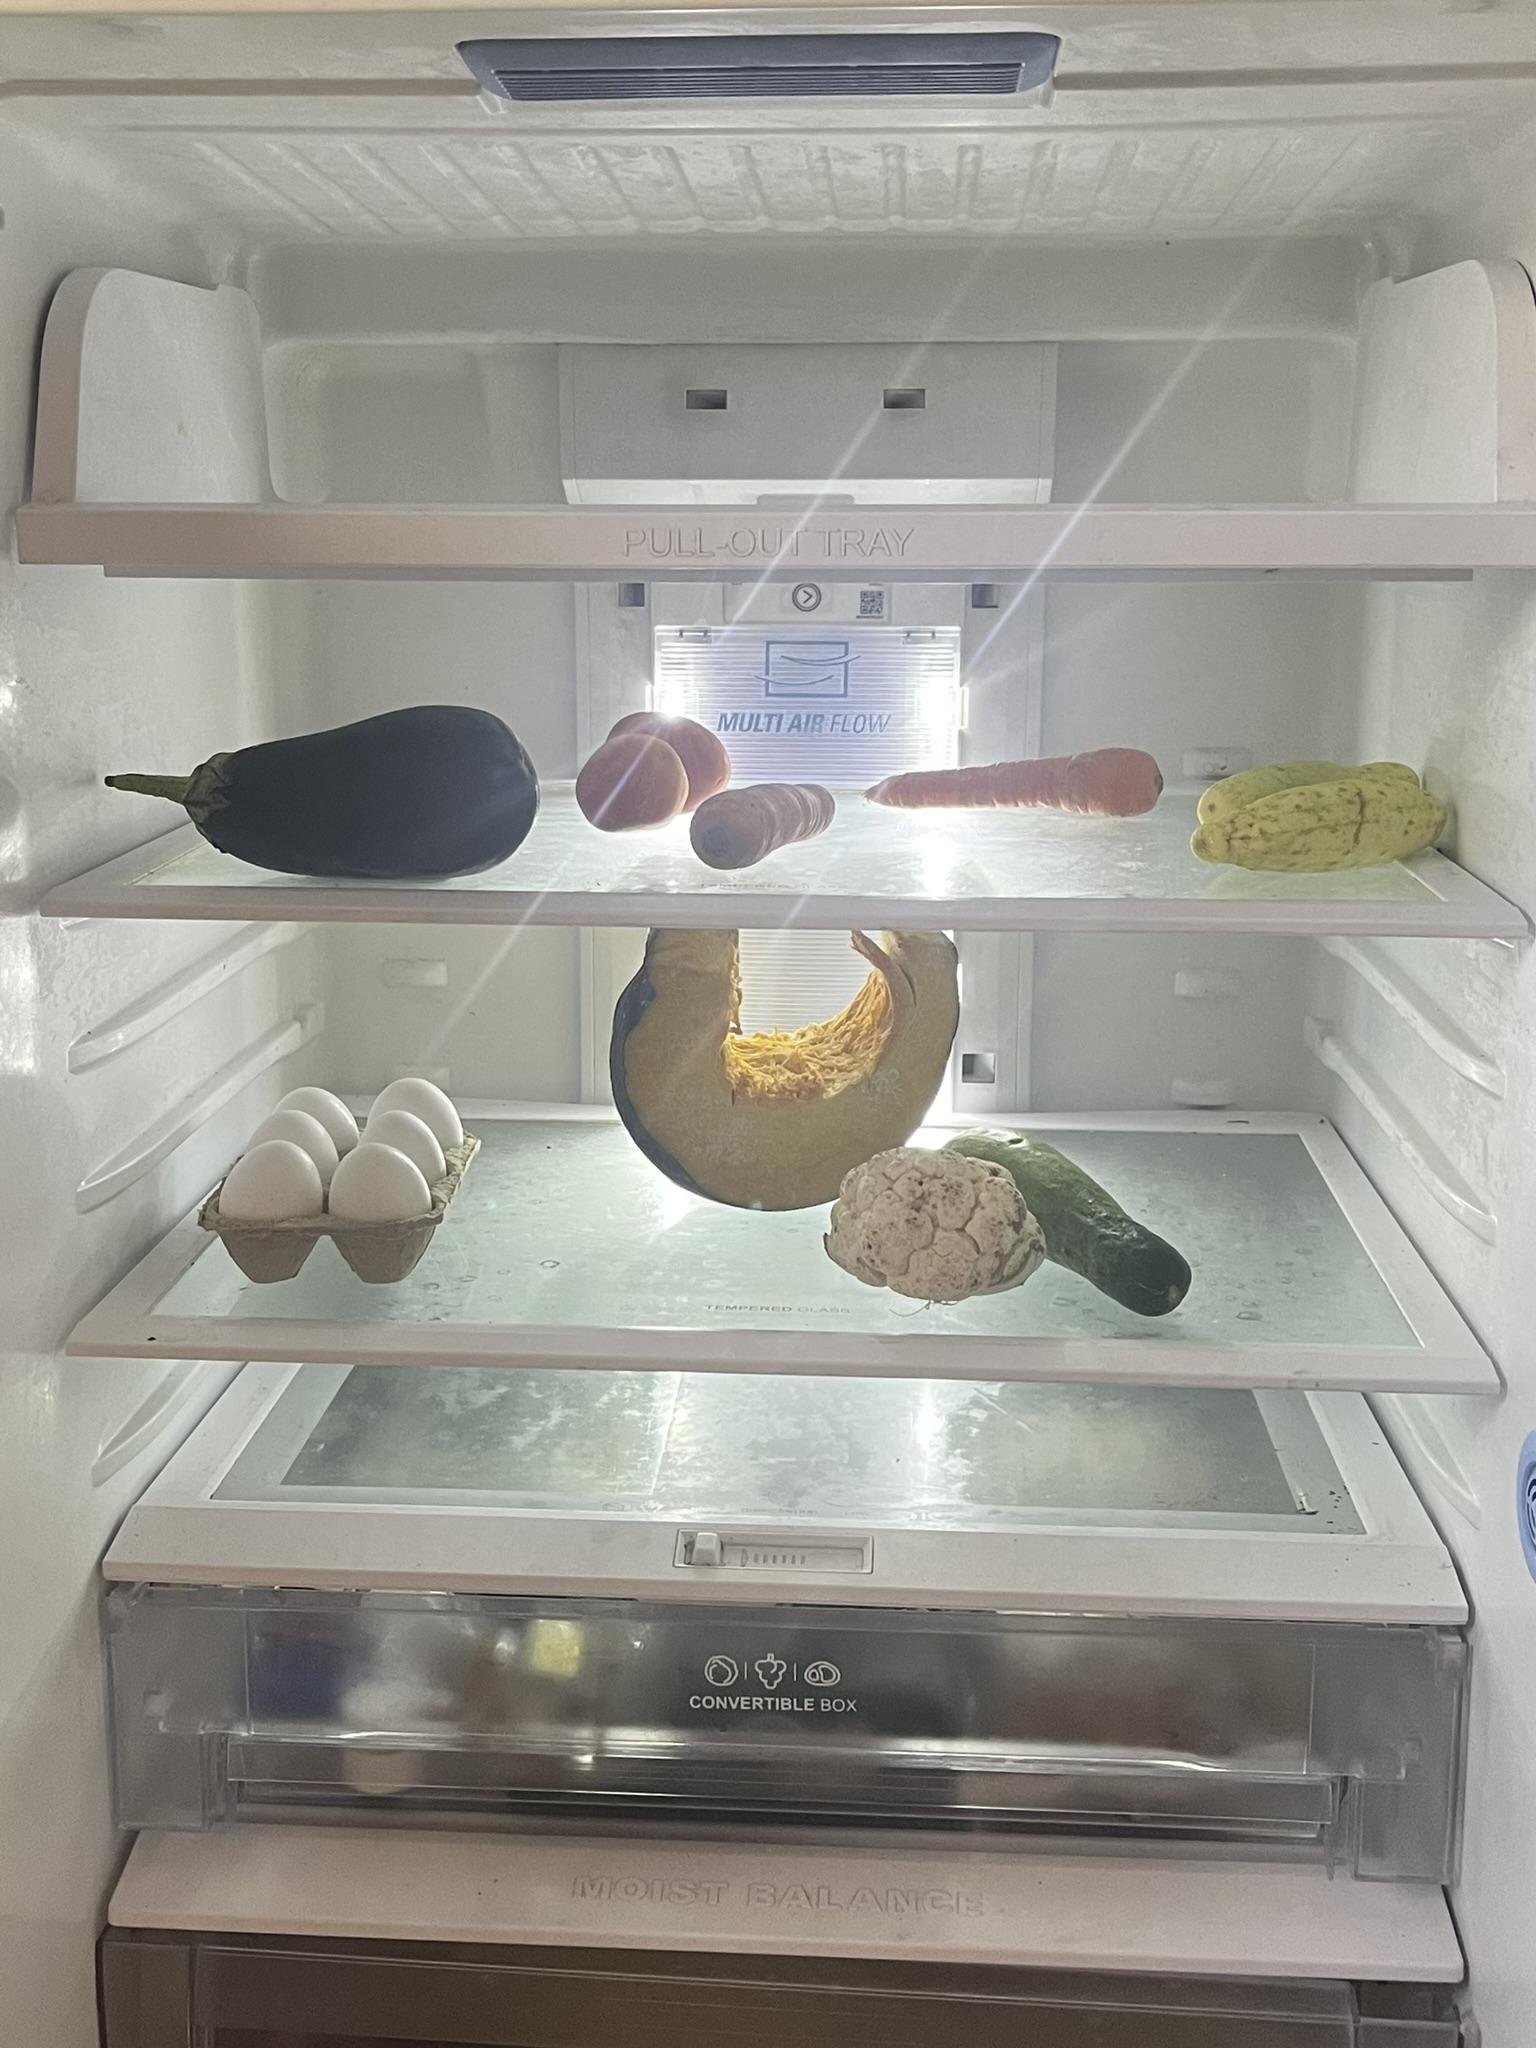bringal: (100, 690, 550, 890), (863, 737, 1186, 827)
carrots: (666, 777, 844, 866)
cauliflower: (816, 1150, 1060, 1303)
cucumber: (933, 1127, 1213, 1330), (1183, 743, 1463, 877)
egg: (213, 1071, 476, 1271)
pumpkin: (623, 927, 963, 1206)
tomato: (576, 703, 744, 837)
